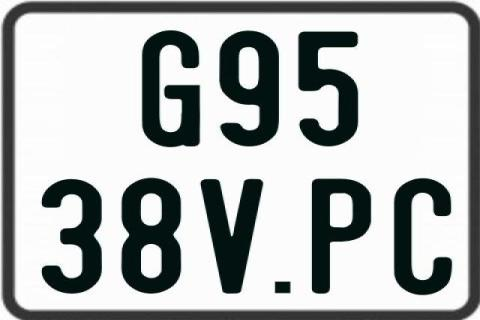0: (120, 177, 182, 297), (41, 177, 103, 295), (219, 30, 281, 146), (297, 31, 357, 149)
C: (391, 178, 450, 298)
G: (142, 30, 203, 146)
P: (310, 177, 374, 293)
V: (201, 179, 266, 299)
